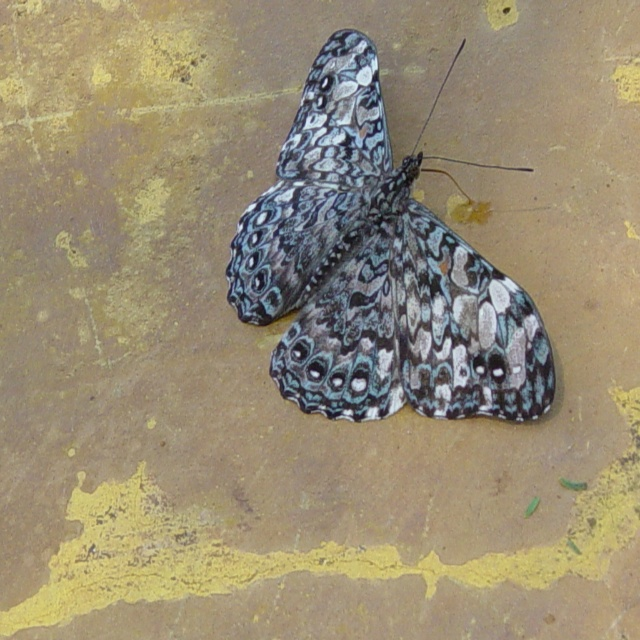Butterfly: (243, 14, 549, 446)
